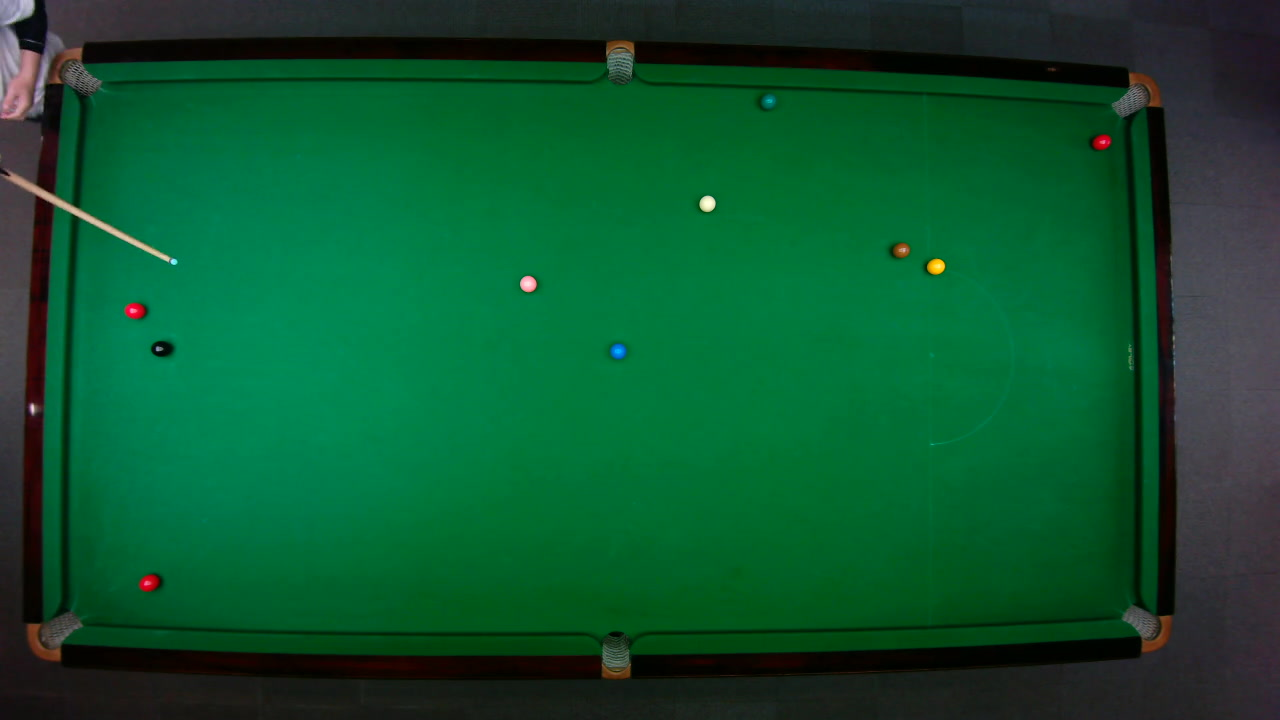bag: (25, 609, 83, 661), (46, 46, 102, 96), (1119, 603, 1171, 652), (1108, 71, 1161, 118), (601, 629, 629, 680), (605, 38, 633, 85)
black: (149, 339, 171, 357)
blue: (608, 341, 626, 359)
brown: (890, 241, 911, 258)
cue: (1, 168, 182, 268)
green: (758, 92, 777, 110)
pink: (517, 273, 537, 293)
red: (137, 572, 161, 592), (123, 301, 146, 319), (1090, 132, 1112, 150)
white: (697, 193, 716, 212)
yellow: (925, 257, 946, 275)
zone: (927, 267, 1013, 445)
